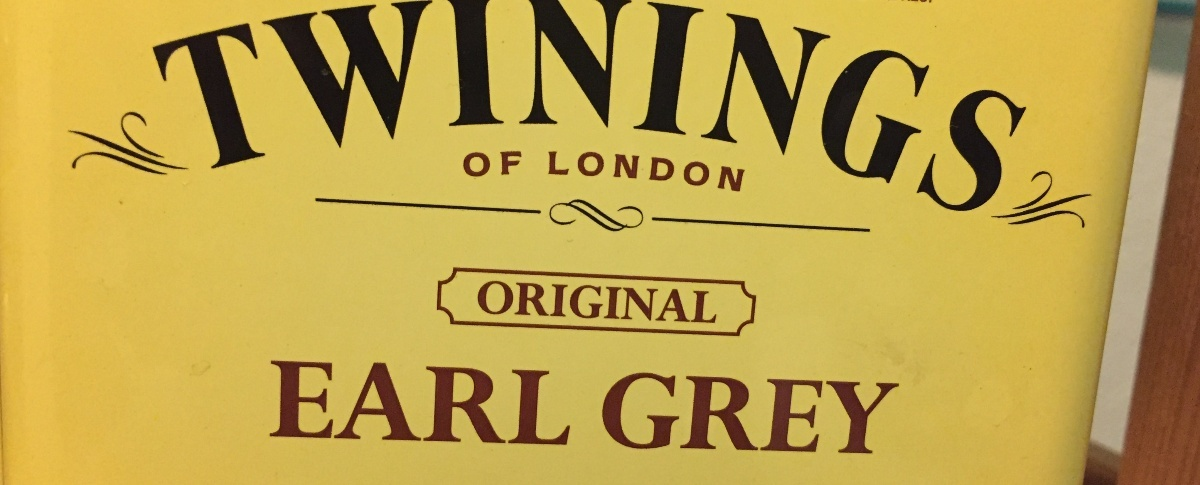text: (145, 1, 160, 213), (161, 1, 176, 213), (177, 1, 192, 213), (193, 1, 208, 213), (209, 1, 224, 213), (225, 1, 240, 213), (241, 1, 256, 213), (257, 1, 272, 213), (273, 1, 288, 213), (289, 1, 304, 213), (305, 1, 320, 213), (321, 1, 336, 213), (337, 1, 352, 213), (353, 1, 368, 213), (369, 1, 384, 213), (385, 1, 400, 213), (401, 1, 416, 213), (417, 1, 432, 213), (433, 1, 448, 213), (449, 1, 464, 213), (465, 1, 480, 213), (481, 1, 496, 213), (497, 1, 512, 213), (513, 1, 528, 213), (529, 1, 544, 213), (545, 1, 560, 213), (561, 1, 576, 213), (577, 1, 592, 213), (593, 1, 608, 213), (609, 1, 624, 213), (625, 1, 640, 213), (641, 1, 656, 213), (657, 1, 672, 213), (673, 1, 688, 213), (689, 1, 704, 213), (705, 1, 720, 213), (721, 1, 736, 213), (737, 1, 752, 213), (753, 1, 768, 213), (769, 1, 784, 213), (785, 1, 800, 213), (801, 1, 816, 213), (817, 1, 832, 213), (833, 1, 848, 213), (849, 1, 864, 213), (865, 1, 880, 213), (881, 1, 896, 213), (897, 1, 912, 213), (913, 1, 928, 213), (929, 1, 944, 213), (945, 1, 960, 213), (961, 1, 976, 213), (977, 1, 992, 213), (993, 1, 1008, 213), (1009, 1, 1024, 213), (1025, 1, 1040, 213), (1041, 1, 1056, 213), (273, 358, 288, 446), (289, 358, 304, 446), (305, 358, 320, 446), (321, 358, 336, 446), (337, 358, 352, 446), (353, 358, 368, 446), (369, 358, 384, 446), (385, 358, 400, 446), (401, 358, 416, 446), (417, 358, 432, 446), (433, 358, 448, 446), (449, 358, 464, 446), (465, 358, 480, 446), (481, 358, 496, 446), (497, 358, 512, 446), (513, 358, 528, 446), (529, 358, 544, 446), (545, 358, 560, 446), (609, 371, 624, 454), (625, 371, 640, 454), (641, 371, 656, 454), (657, 371, 672, 454), (673, 371, 688, 454), (689, 371, 704, 454), (705, 371, 720, 454), (721, 371, 736, 454), (737, 371, 752, 454), (753, 371, 768, 454), (769, 371, 784, 454), (785, 371, 800, 454), (801, 371, 816, 454), (817, 371, 832, 454), (833, 371, 848, 454), (849, 371, 864, 454), (865, 371, 880, 454), (881, 371, 896, 454), (561, 358, 574, 446), (561, 149, 576, 193), (577, 149, 592, 193), (593, 149, 608, 193), (609, 149, 624, 193), (625, 149, 640, 193), (641, 149, 656, 193), (657, 149, 672, 193), (673, 149, 688, 193), (689, 149, 704, 193), (705, 149, 720, 193), (721, 149, 736, 193), (481, 280, 496, 324), (497, 280, 512, 324), (513, 280, 528, 324), (529, 280, 544, 324), (545, 280, 560, 324), (561, 280, 576, 324), (577, 280, 592, 324), (593, 280, 608, 324), (609, 280, 624, 324), (625, 280, 640, 324), (641, 280, 656, 324), (657, 280, 672, 324), (673, 280, 688, 324), (689, 280, 704, 324), (548, 149, 560, 193), (705, 280, 717, 324), (737, 149, 748, 193), (465, 151, 480, 177), (481, 151, 496, 177), (497, 151, 512, 177), (604, 371, 608, 454), (897, 371, 901, 454), (513, 151, 522, 177), (143, 1, 144, 213), (270, 358, 272, 446), (479, 280, 480, 324)
